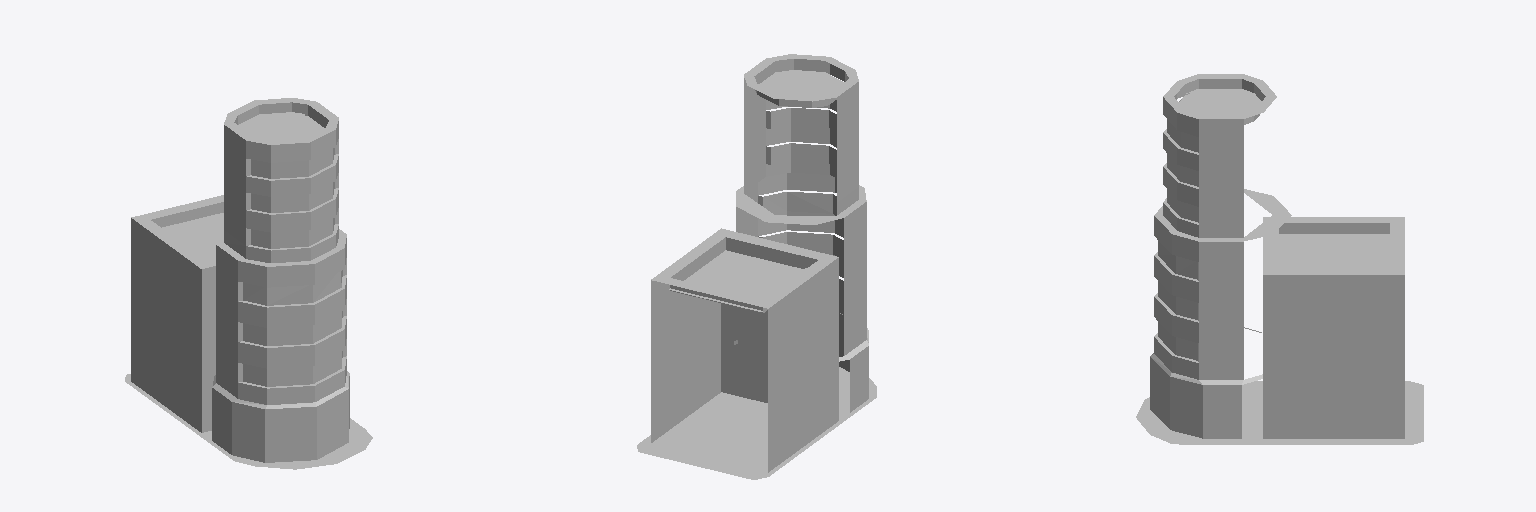
Rendered from Jubilife City Building 4.obj.
3 renders of one model, left to right at view 1: azimuth 30°, elevation 25°; view 2: azimuth 150°, elevation 25°; view 3: azimuth 270°, elevation 25°, orthographic.
Parts seen in each view (by area): view 1: polygon3, polygon2, polygon1, polygon0; view 2: polygon3, polygon1, polygon2, polygon0; view 3: polygon3, polygon1, polygon0, polygon2.
Boxes of the visible parts, <box> form: polygon3: <box>131,98,349,462</box>; polygon2: <box>243,148,342,386</box>; polygon1: <box>125,112,372,469</box>; polygon0: <box>170,115,323,259</box>; polygon3: <box>651,54,868,472</box>; polygon1: <box>637,268,876,479</box>; polygon2: <box>763,108,843,300</box>; polygon0: <box>684,70,843,299</box>; polygon3: <box>1150,74,1404,438</box>; polygon1: <box>1136,89,1423,444</box>; polygon0: <box>1179,92,1375,268</box>; polygon2: <box>1158,99,1198,360</box>.
Bounding box in the file's own units: 85 × 194 × 161.